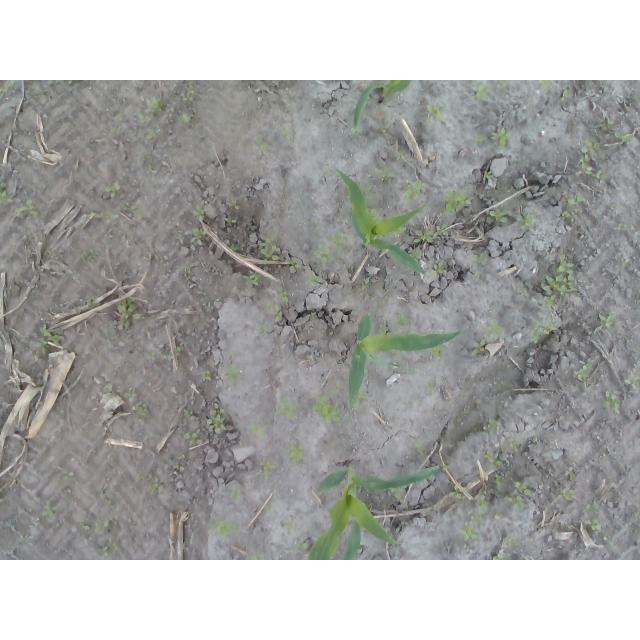Maize: (309, 461, 439, 560), (348, 313, 461, 408), (331, 167, 426, 278), (352, 80, 412, 128)
Weeds: (540, 253, 577, 311), (577, 141, 610, 184), (313, 383, 344, 425), (30, 325, 66, 356), (115, 295, 145, 329), (415, 95, 447, 123), (207, 520, 241, 545), (559, 196, 587, 225), (459, 511, 485, 542), (411, 224, 449, 242), (475, 127, 513, 145), (530, 319, 558, 343), (206, 402, 226, 435), (445, 190, 472, 214), (80, 517, 113, 536), (468, 80, 496, 102), (403, 180, 424, 209), (593, 312, 618, 336), (312, 242, 337, 266), (328, 228, 352, 253), (372, 165, 399, 184), (259, 239, 282, 261), (96, 538, 121, 558), (271, 399, 297, 418), (255, 128, 273, 155), (484, 448, 506, 470), (0, 175, 16, 205), (16, 199, 41, 217), (575, 360, 593, 384), (486, 318, 503, 343), (601, 396, 622, 416), (43, 497, 62, 519), (517, 212, 536, 233), (286, 442, 304, 464), (488, 206, 510, 224), (510, 479, 532, 497), (240, 270, 263, 286), (265, 303, 284, 322), (121, 202, 143, 218), (224, 363, 240, 385), (282, 514, 298, 535), (191, 225, 206, 247), (145, 97, 163, 115), (184, 430, 204, 446), (102, 182, 120, 199), (146, 479, 162, 498), (392, 312, 411, 328), (511, 495, 527, 514), (433, 256, 448, 276), (613, 131, 634, 145), (470, 340, 487, 357), (294, 537, 310, 555), (247, 544, 265, 560), (250, 422, 268, 438), (596, 118, 616, 132), (285, 258, 301, 275), (449, 484, 464, 501), (102, 209, 120, 223), (276, 287, 290, 305), (390, 226, 409, 239), (145, 127, 161, 142), (468, 254, 488, 266), (560, 487, 577, 501), (143, 162, 161, 175), (492, 549, 513, 560), (134, 401, 148, 417), (485, 416, 498, 433), (256, 324, 273, 337), (615, 222, 637, 232), (262, 463, 274, 481), (192, 207, 206, 222), (539, 80, 554, 94), (431, 345, 445, 360), (179, 88, 195, 101), (176, 112, 193, 124), (81, 246, 98, 258), (223, 487, 241, 498), (509, 436, 521, 452), (306, 274, 322, 286), (143, 351, 162, 361), (427, 383, 438, 400), (504, 535, 521, 546), (583, 503, 601, 513), (564, 465, 576, 480), (351, 127, 369, 137), (479, 493, 489, 510), (620, 258, 633, 271), (625, 375, 640, 386), (47, 80, 65, 89), (280, 126, 291, 140), (494, 473, 505, 487), (197, 371, 212, 381), (228, 199, 240, 211), (359, 390, 370, 403), (62, 470, 75, 481), (128, 111, 145, 119), (409, 250, 424, 259), (127, 387, 135, 402), (494, 80, 507, 89), (378, 324, 387, 337), (387, 488, 401, 496), (590, 520, 602, 529), (306, 312, 318, 321), (111, 127, 121, 137), (483, 169, 493, 179), (6, 80, 17, 89), (415, 441, 422, 455), (223, 217, 237, 224), (183, 408, 193, 417), (407, 328, 418, 336), (175, 346, 186, 354), (175, 464, 185, 472), (377, 124, 387, 132), (231, 245, 242, 252), (1, 88, 8, 96), (350, 315, 358, 321)
